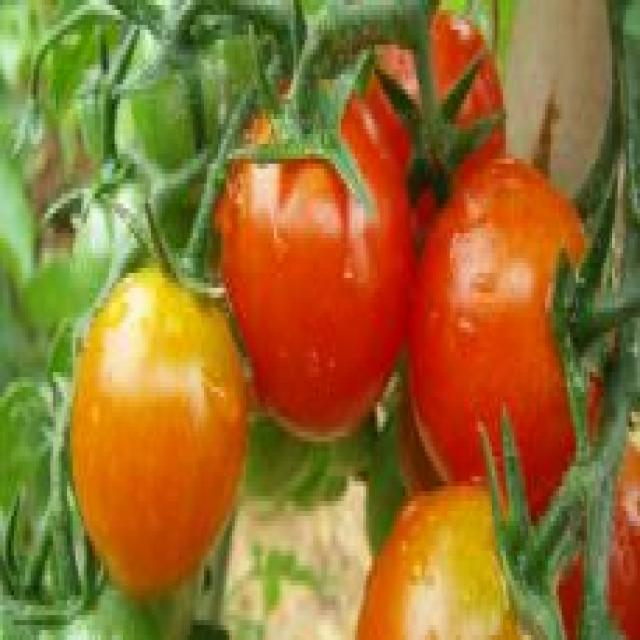level 4: (56, 276, 258, 597), (336, 475, 548, 640)
level 6: (388, 118, 615, 500), (186, 85, 424, 446), (333, 13, 522, 261), (552, 400, 640, 636)
